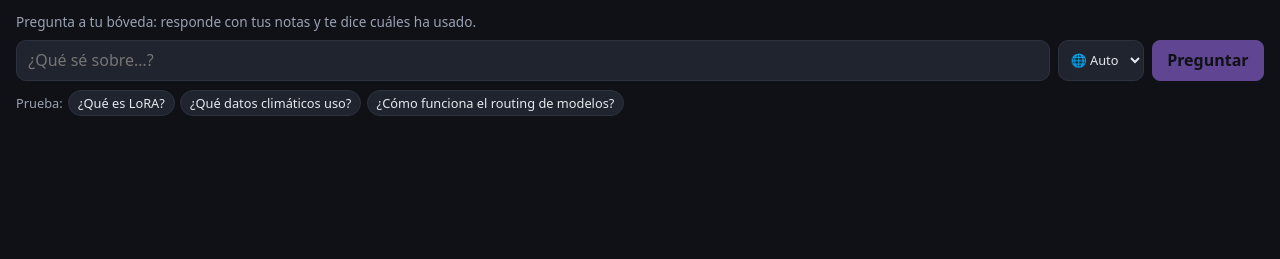
Test: idioma del contenido › por defecto pregunta en «auto»: responde en el idioma de la pregunta
The image size is (1280, 259).
Type "What is LoRA?" into the field labelled "Pregunta a tu bóveda". click: (533, 60)
box: [16,40,1050,81]
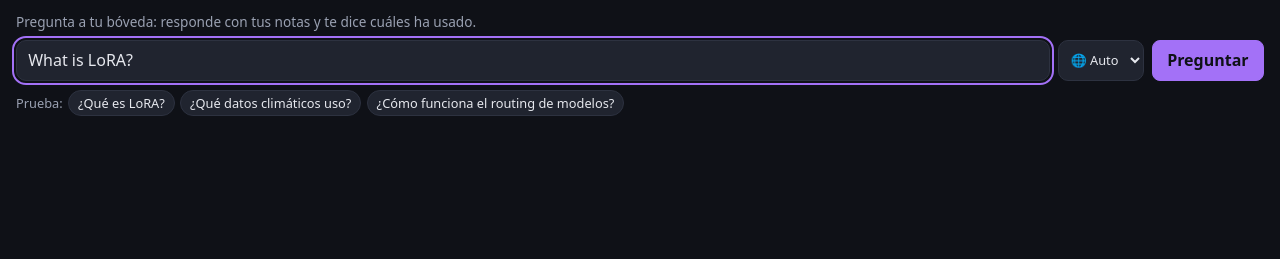
Click the button "Preguntar". click: (1208, 60)
box: [1152,40,1264,81]
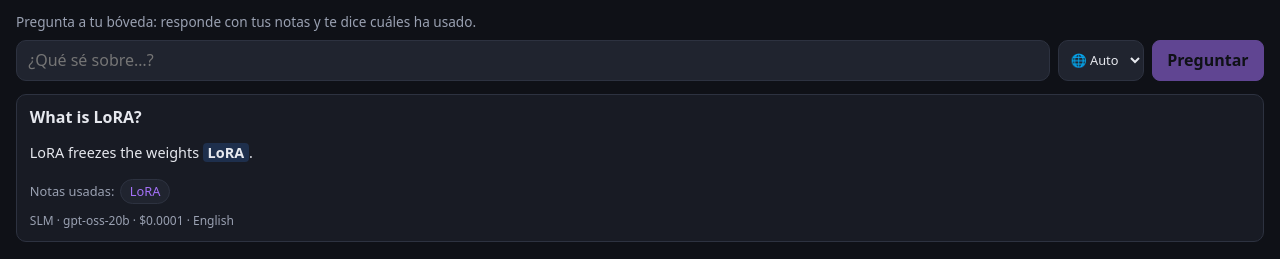
Expected: the text "SLM · gpt-oss-20b · $0.0001 · English" is shown, [30,212,234,229]
